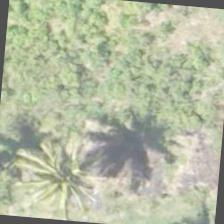Kelapa_Sawit: (14, 127, 112, 223)
